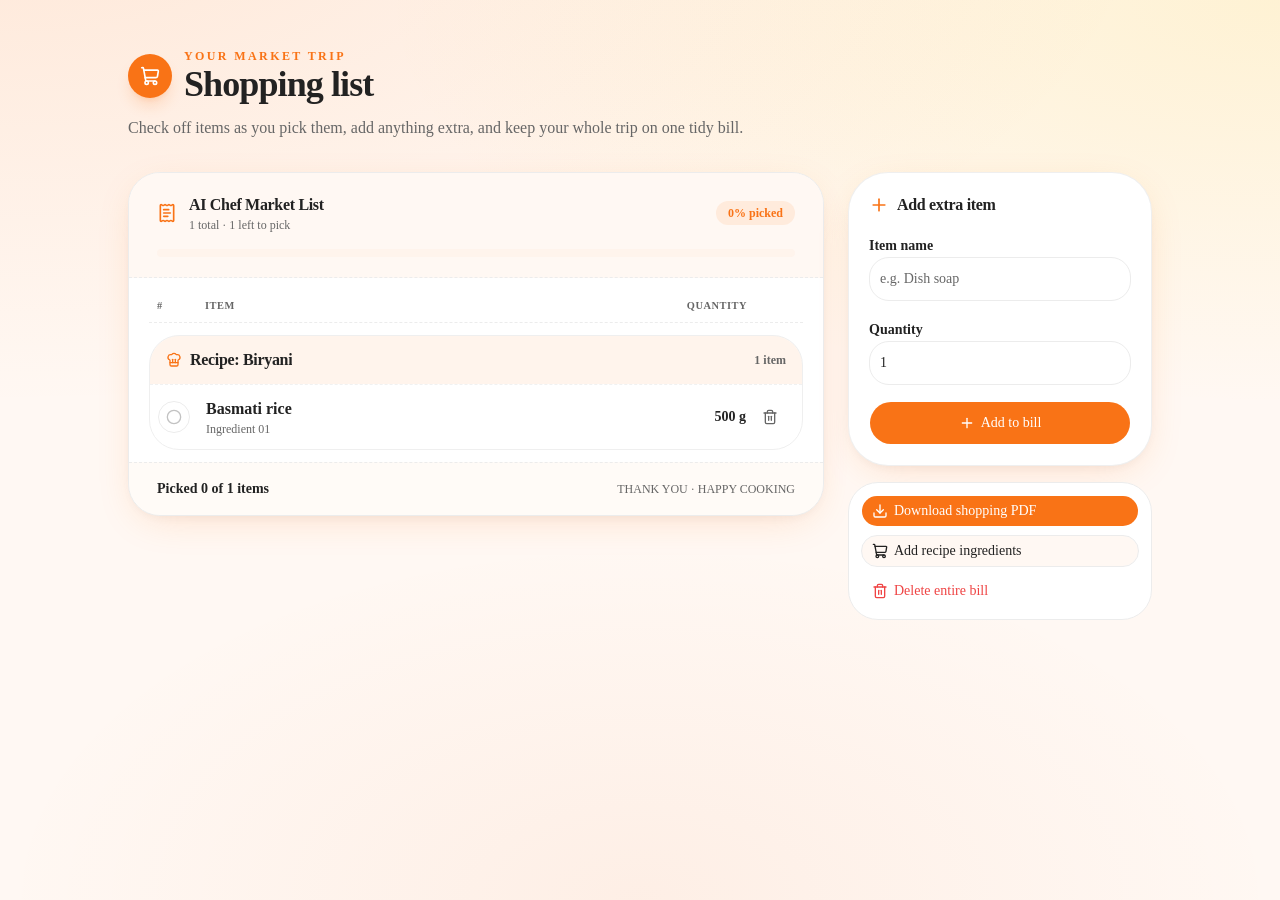
Test: Shopping list page › keeps ingredients added from a recipe and can clear picked items
The width and height of the screenshot is (1280, 900).
Expected: the text "Basmati rice" is shown, [206,400,292,417]
Expected: the heading "Recipe: Biryani" is shown, [190,348,292,372]
Click the button named "Mark Basmati rice as picked" at (174, 417), box [158,401,190,433]
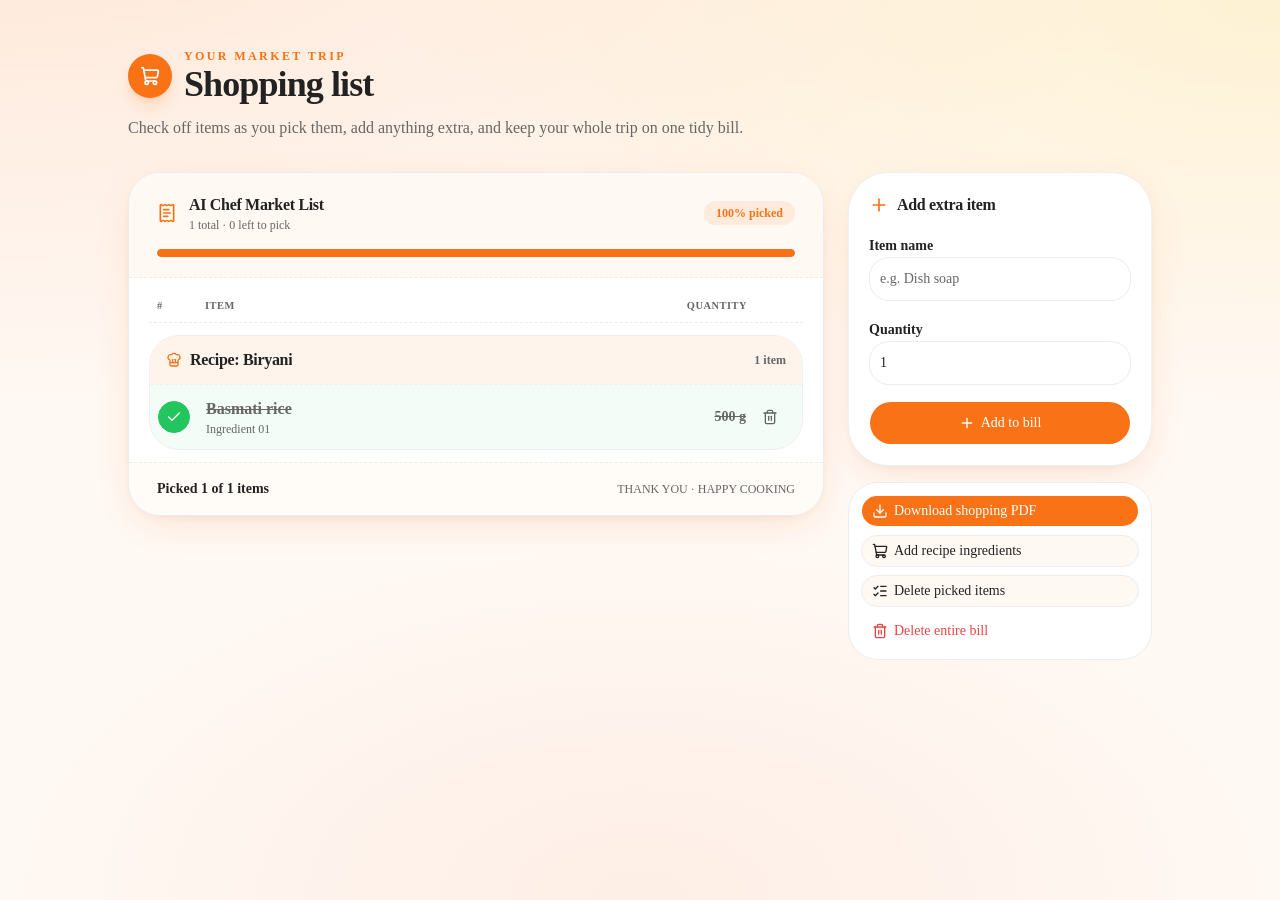
Click the button "Delete picked items" at (1000, 591), box [861,575,1139,607]
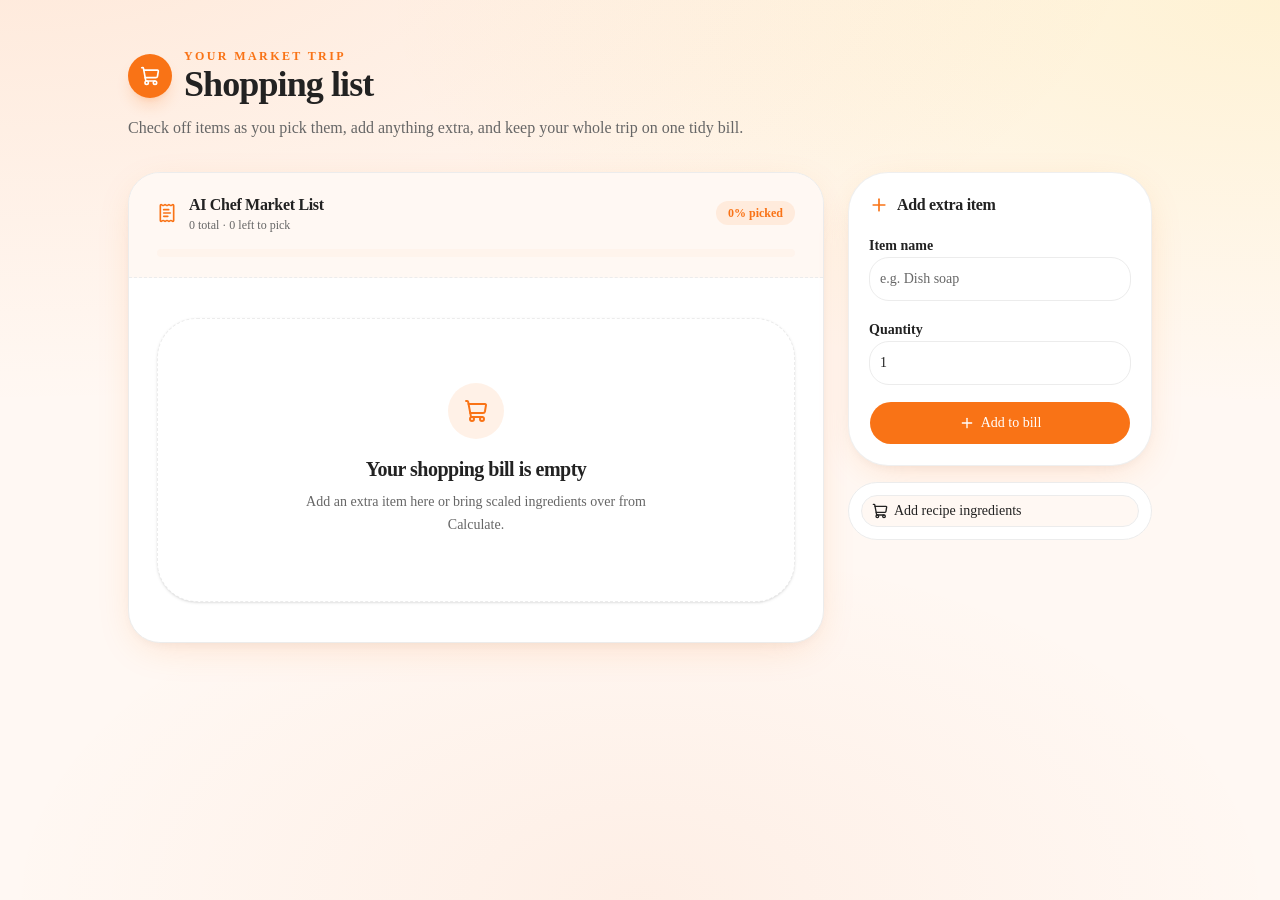
Now the text "Basmati rice" is gone
